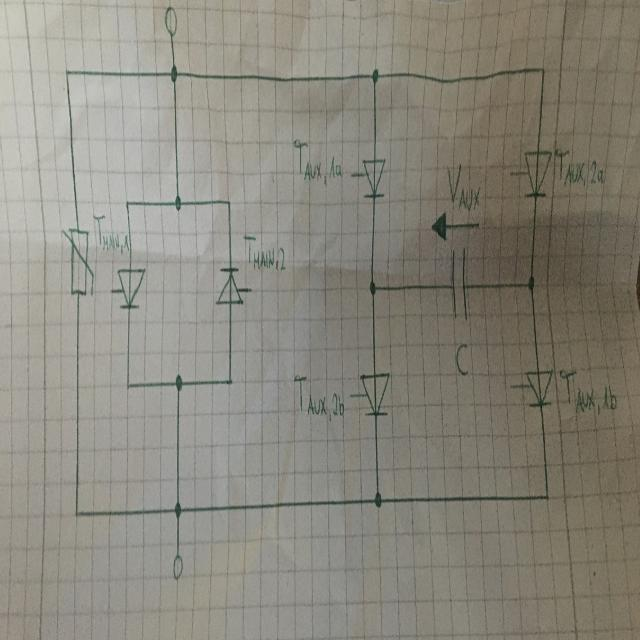capacitor: (448, 245, 471, 322)
junction: (169, 64, 178, 84), (173, 500, 182, 520), (174, 372, 183, 392), (373, 489, 382, 508), (368, 278, 377, 296), (174, 192, 182, 212), (371, 66, 379, 86), (526, 274, 534, 292), (543, 486, 550, 504), (226, 373, 233, 388), (539, 62, 546, 76), (73, 506, 80, 520), (124, 198, 131, 210), (125, 380, 132, 392), (225, 196, 231, 209), (64, 66, 70, 78)
terminal: (163, 3, 178, 38), (171, 552, 185, 580)
text: (558, 365, 618, 417), (292, 372, 345, 423), (292, 137, 342, 186), (553, 144, 605, 187), (445, 161, 481, 212), (242, 231, 286, 272), (92, 210, 129, 254), (454, 340, 471, 378)
thyristor: (358, 370, 391, 419), (522, 148, 553, 199), (116, 264, 146, 312), (213, 264, 246, 306), (524, 367, 554, 409), (360, 156, 387, 200)
